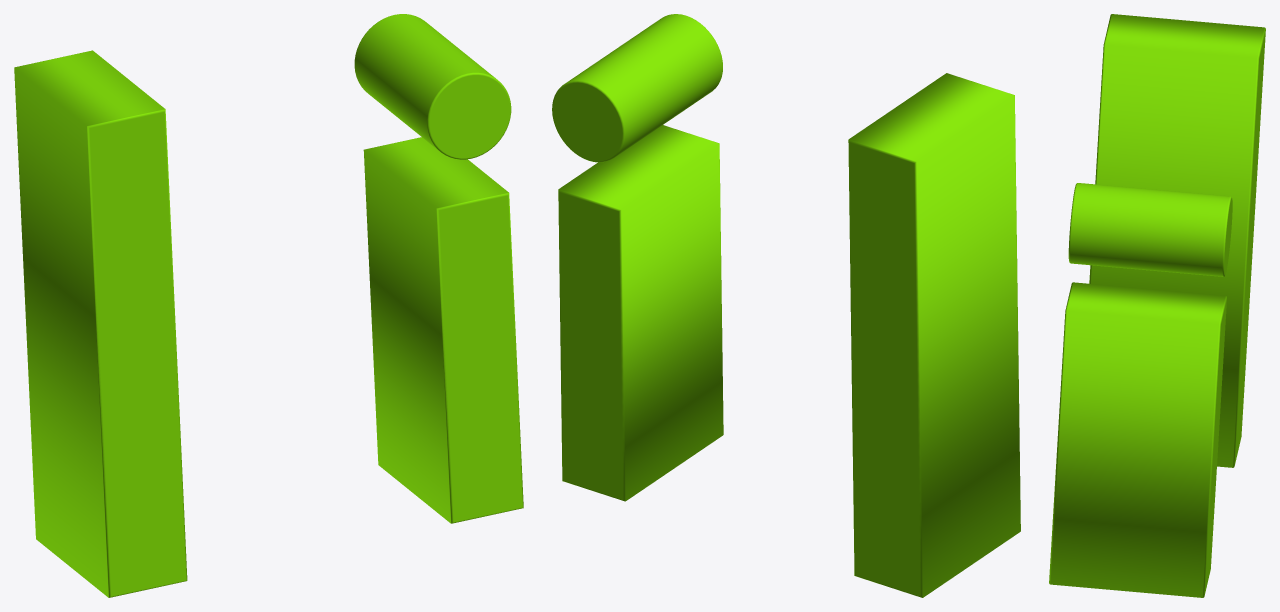
Rendered from ObjectI.fbx.
3 renders of one model, left to right at view 1: azimuth 30°, elevation 25°; view 2: azimuth 150°, elevation 25°; view 3: azimuth 270°, elevation 25°, orthographic. The views are drawn at different scales.
Parts seen in each view (by area): view 1: Text; view 2: Text; view 3: Text.
Part boxes in pixels (left/top/right/bottom): Text: left=14, top=14, right=523, bottom=597; Text: left=552, top=14, right=1020, bottom=597; Text: left=1049, top=14, right=1265, bottom=597.
Bounding box in the file's own units: 165 × 180 × 85.09.
